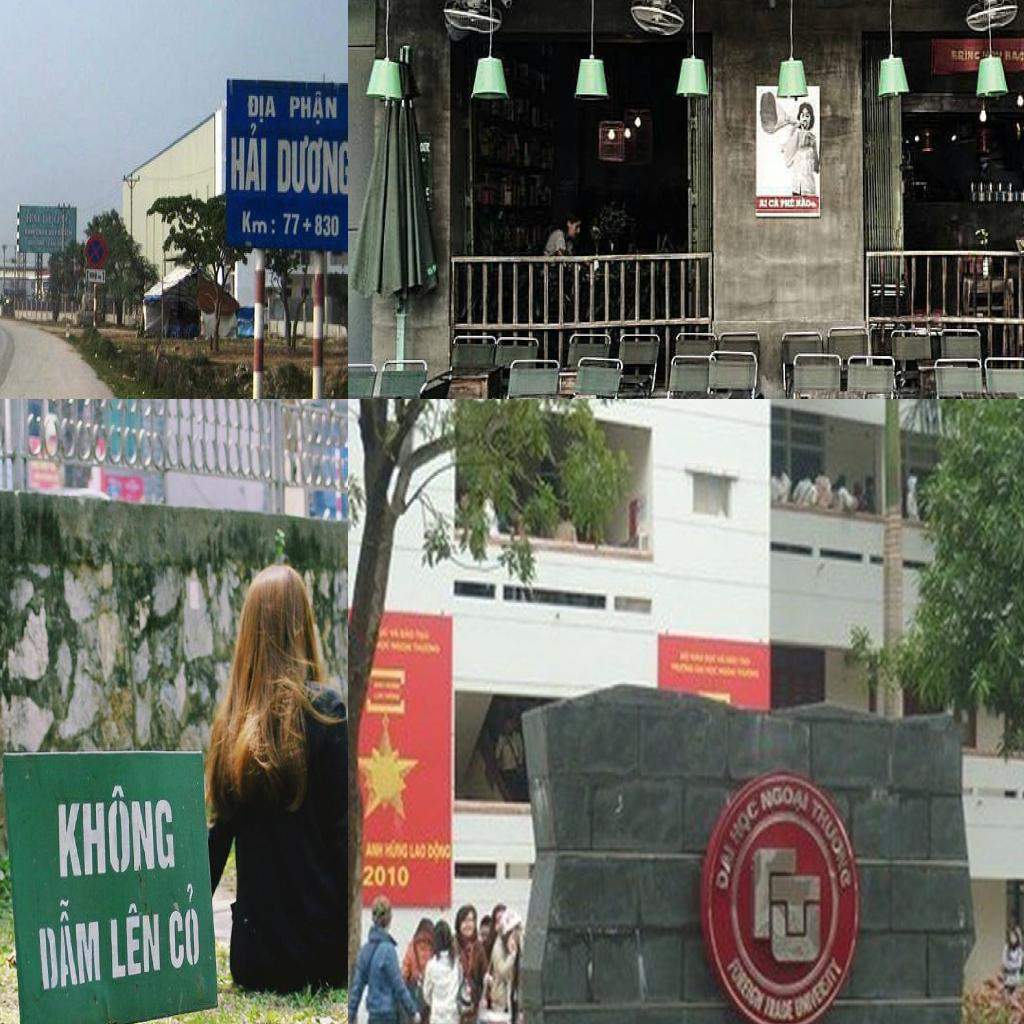text: (59, 783, 178, 881), (35, 893, 102, 993), (809, 784, 863, 894), (276, 133, 348, 196), (110, 901, 162, 982), (166, 882, 202, 972), (229, 125, 269, 193), (725, 794, 763, 848), (290, 92, 339, 128), (759, 785, 813, 817), (713, 837, 738, 896), (361, 862, 412, 889), (245, 95, 280, 125), (240, 210, 277, 238), (314, 211, 342, 243), (282, 210, 303, 238), (362, 840, 384, 860), (408, 842, 427, 862), (1003, 48, 1024, 63), (957, 48, 969, 62), (769, 197, 780, 209), (758, 198, 769, 209)
